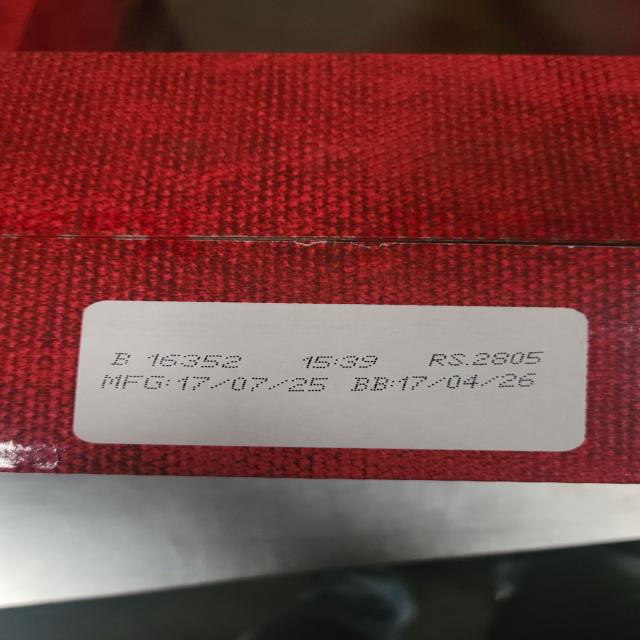BB: (352, 374, 541, 392)
Batch: (108, 353, 245, 368)
MFG: (103, 374, 325, 392)
RS: (428, 351, 547, 366)
TimeStamp: (303, 355, 382, 369)
